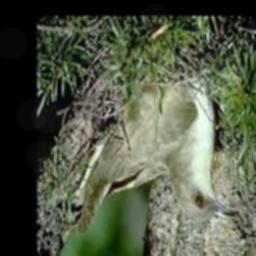Cuckoo: (80, 78, 241, 236)
